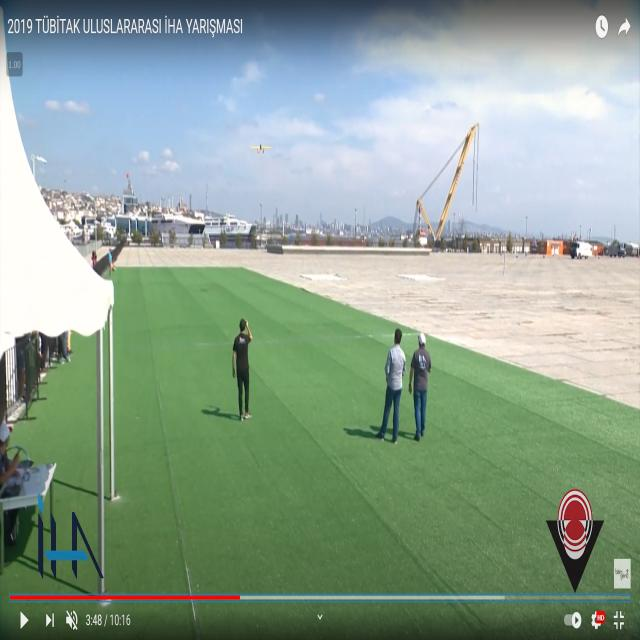iha: (249, 147, 271, 152)
